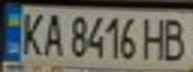1: (103, 13, 124, 60)
4: (84, 12, 106, 60)
6: (118, 14, 142, 61)
8: (66, 11, 90, 58)
A: (39, 10, 66, 57)
B: (160, 15, 190, 62)
H: (139, 14, 172, 61)
K: (15, 8, 48, 57)
